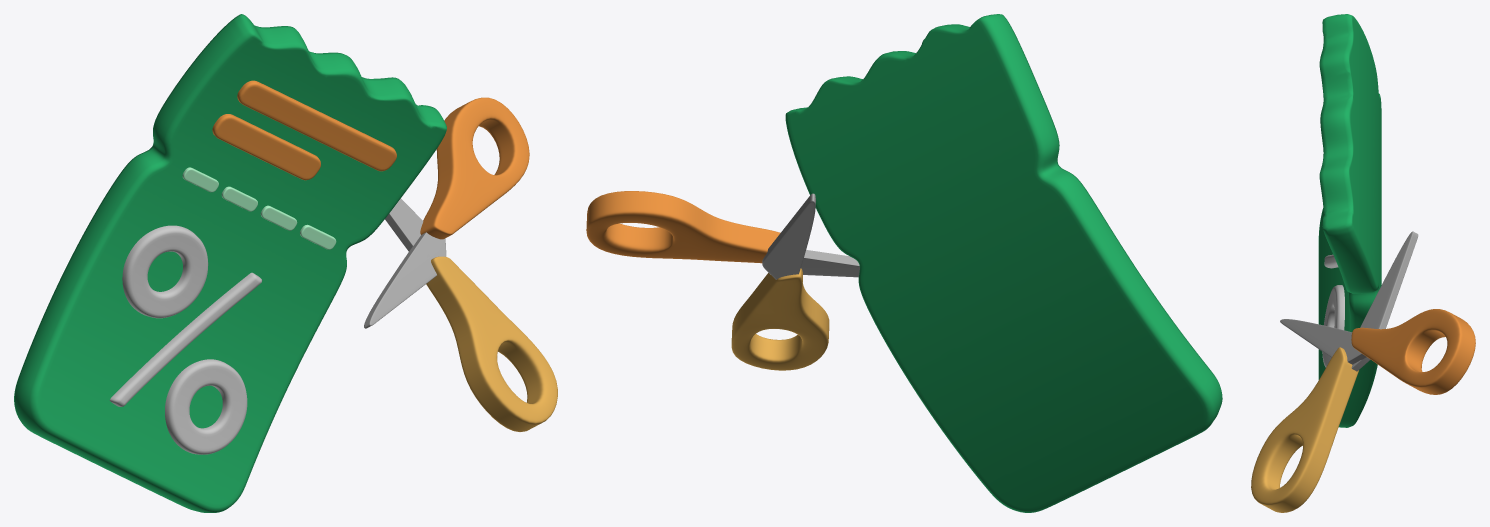
Rendered from manage-discount-animated-3d-icon-611912418048.glb.
3 views of the same model, side by side, from view 1: azimuth 30°, elevation 25°; view 2: azimuth 150°, elevation 25°; view 3: azimuth 270°, elevation 25° (orthographic). The views are drawn at different scales.
Parts seen in each view (by area): view 1: Ticket, Ticket .001, Handle.002, Handle.003; view 2: Ticket, Handle.003, Handle.002; view 3: Ticket, Handle.002, Handle.003, Ticket .001.
Boxes of the visible parts, x1,y1,x2,y2 form: Ticket: (14, 14, 446, 512); Ticket .001: (109, 225, 262, 454); Handle.002: (385, 198, 557, 431); Handle.003: (364, 97, 529, 328); Ticket: (785, 14, 1222, 512); Handle.003: (586, 191, 859, 277); Handle.002: (731, 193, 829, 370); Ticket: (1318, 14, 1381, 427); Handle.002: (1251, 231, 1418, 512); Handle.003: (1280, 309, 1475, 394); Ticket .001: (1322, 254, 1344, 367).
Bounding box in the file's own units: 2.39 × 1.96 × 0.9346.
